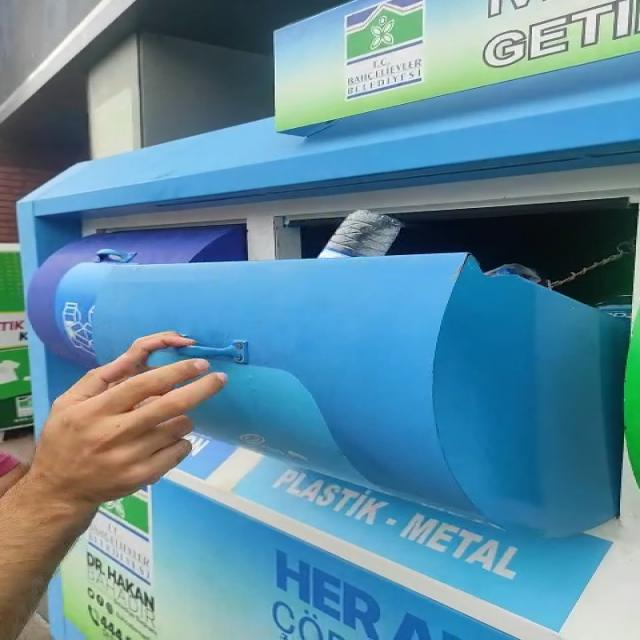plastic: (317, 210, 404, 258)
